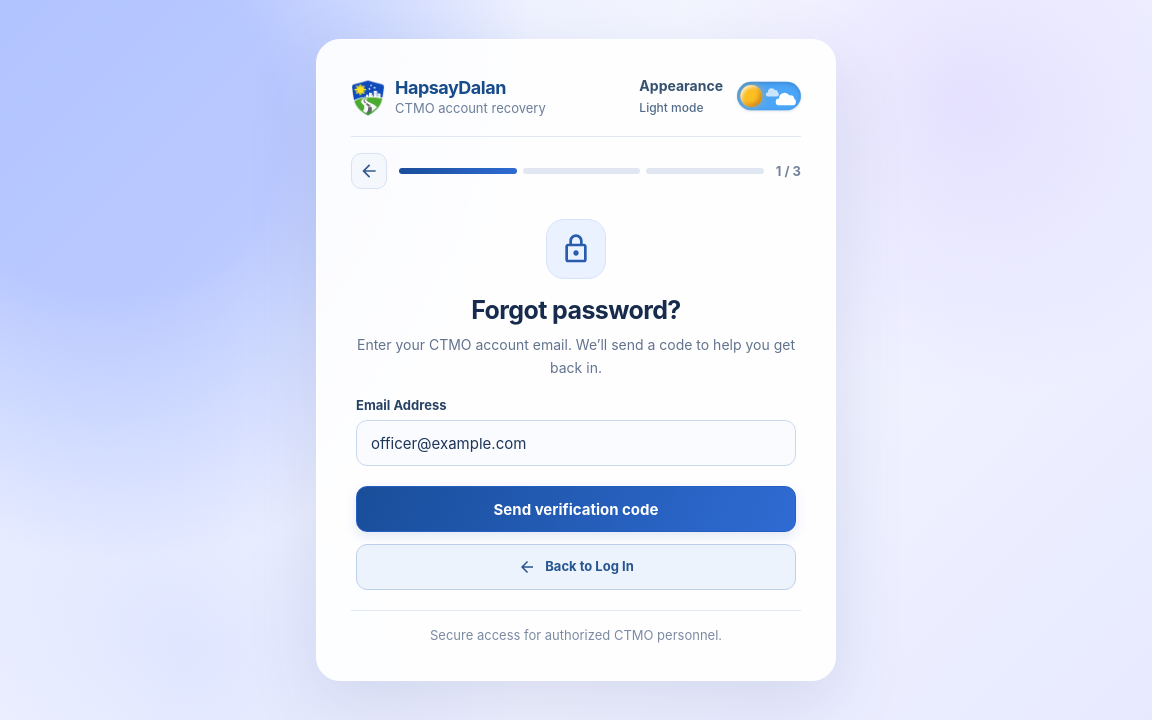
sending shows the driving animation until email delivery responds and blocks repeat submissions
This screenshot has width=1152, height=720.
Click the button "Send verification code".
click(576, 509)  # box [356,486,796,532]
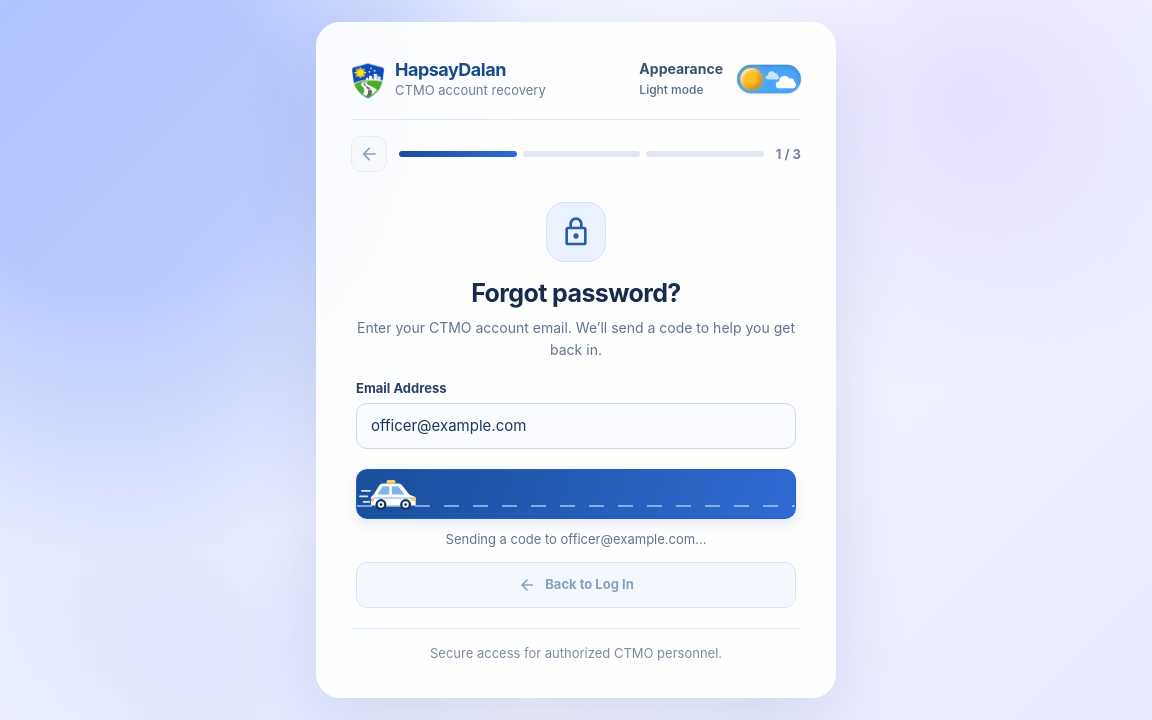
expect the button named "Sending a code to officer@example.com" is disabled: met
expect the message shows "Sending a code to officer@example.com": met, box [446,531,706,547]
Click the button named "Sending a code to officer@example.com".
click(576, 506)  # box [356,469,796,519]
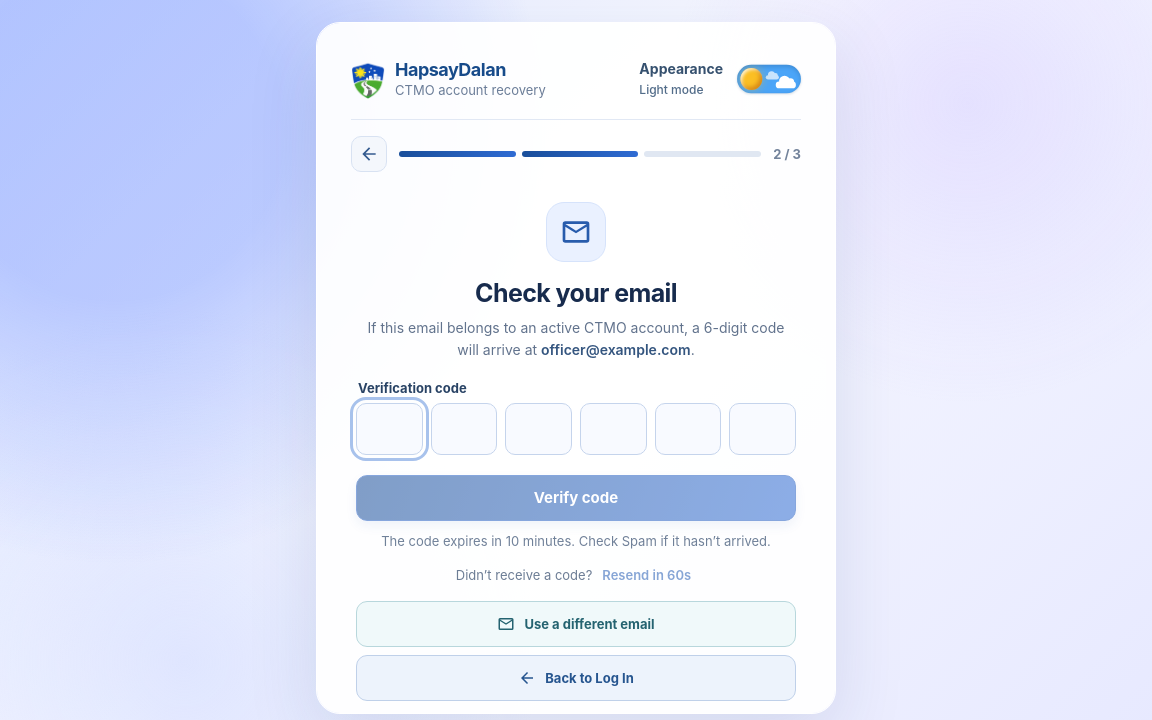
expect the heading "Check your email" is shown: met, box [475,278,677,308]
